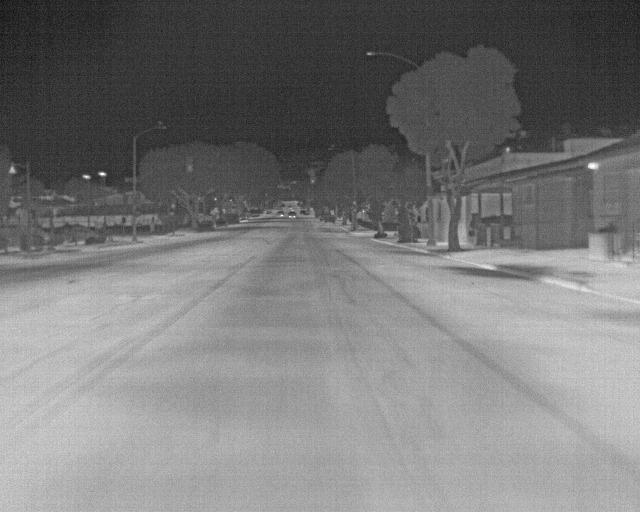car: (287, 210, 298, 220), (276, 208, 286, 218)
